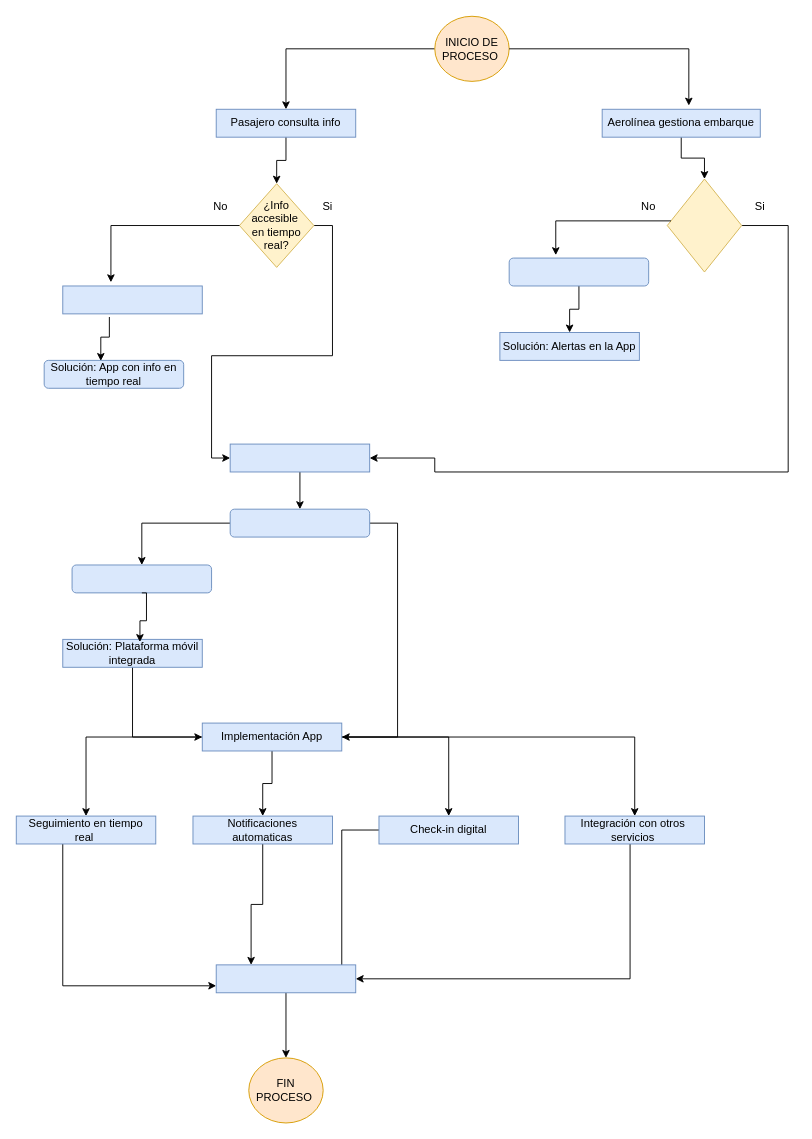
Image size: 812x1139. Some labels were removed from this diagram. Each missing label, with the centre of its shape:
"Comunicación fragmentada" goes at [141,578].
"Desorganización" goes at [578,271].
"Falta de acceso móvil" goes at [132,299].
"Optimización y mejor experiencia" goes at [285,978].
"Tripulación recibe cambios" goes at [299,457].
"¿Actualizaciones en tiempo real?" goes at [299,522].
"¿Cambios notificados a tiempo?" goes at [704,225].
